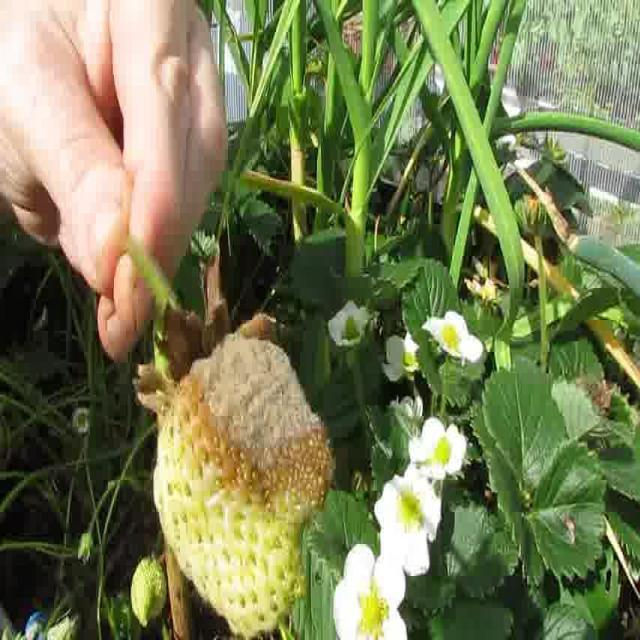Moho gris: (143, 333, 327, 627)
